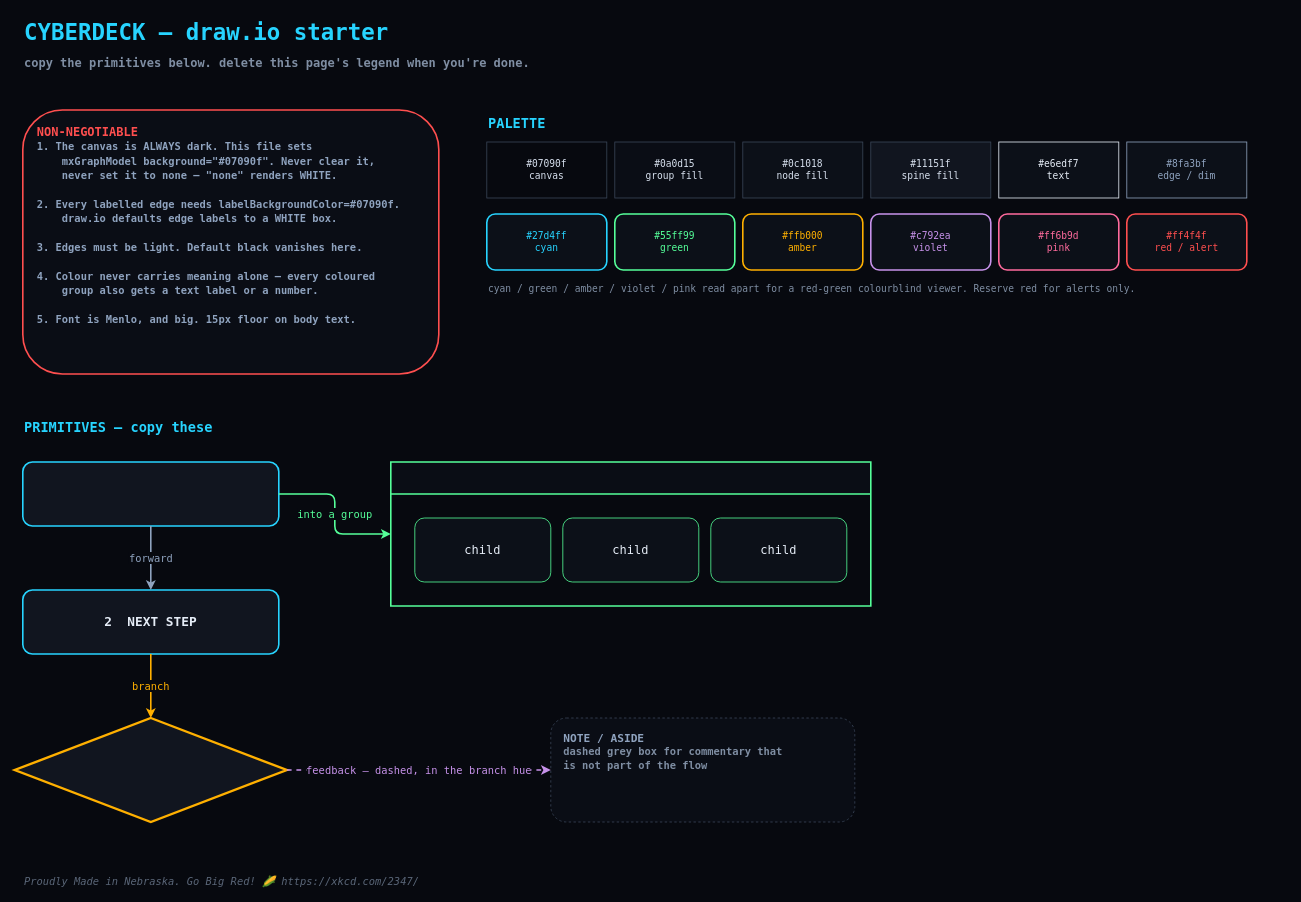
Image size: 1301x902. Some labels were removed from this diagram. Each missing label, with the box of its shape:
1 SPINE NODE main flow step: (22, 461, 279, 526)
DECISION?: (13, 716, 288, 823)
GROUP CONTAINER swimlane, titled: (390, 461, 871, 606)
